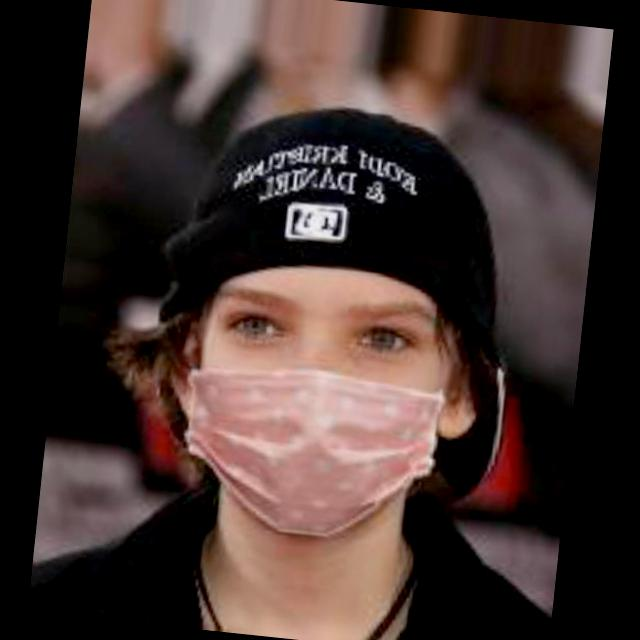suspicion: (128, 136, 499, 567)
